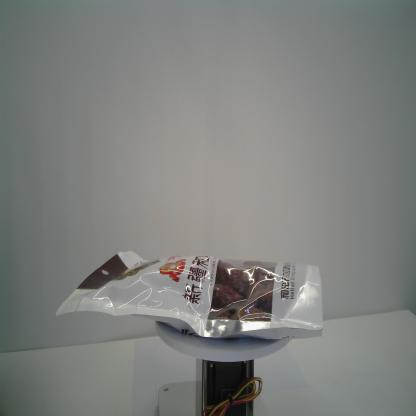Dried Food: (55, 246, 325, 344)
